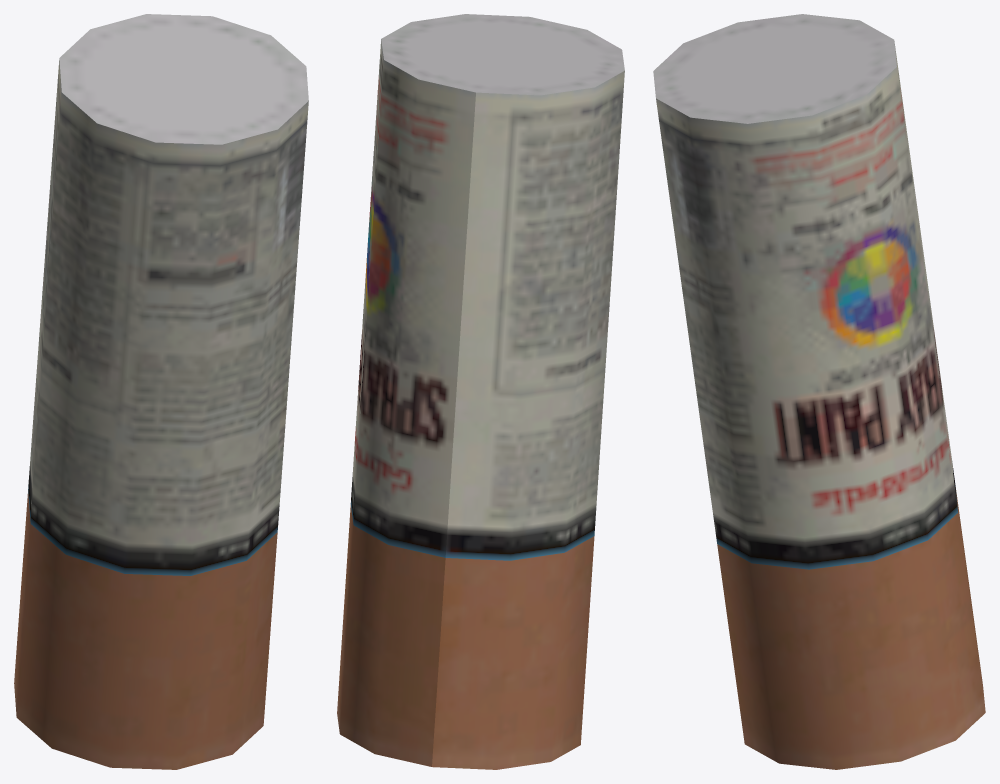
File: BrownCan.fbx
3 renders of one model, left to right at view 1: azimuth 30°, elevation 25°; view 2: azimuth 150°, elevation 25°; view 3: azimuth 270°, elevation 25°, orthographic. The views are drawn at different scales.
Visible parts, largest first — view 1: mesh_3_68.nr; view 2: mesh_3_68.nr; view 3: mesh_3_68.nr.
Boxes of the visible parts, x1,y1,x2,y2 form: mesh_3_68.nr: (14, 14, 308, 769); mesh_3_68.nr: (337, 14, 624, 769); mesh_3_68.nr: (653, 14, 985, 769).
Size of the model in its own units: 8.2 by 24.83 by 11.11.
